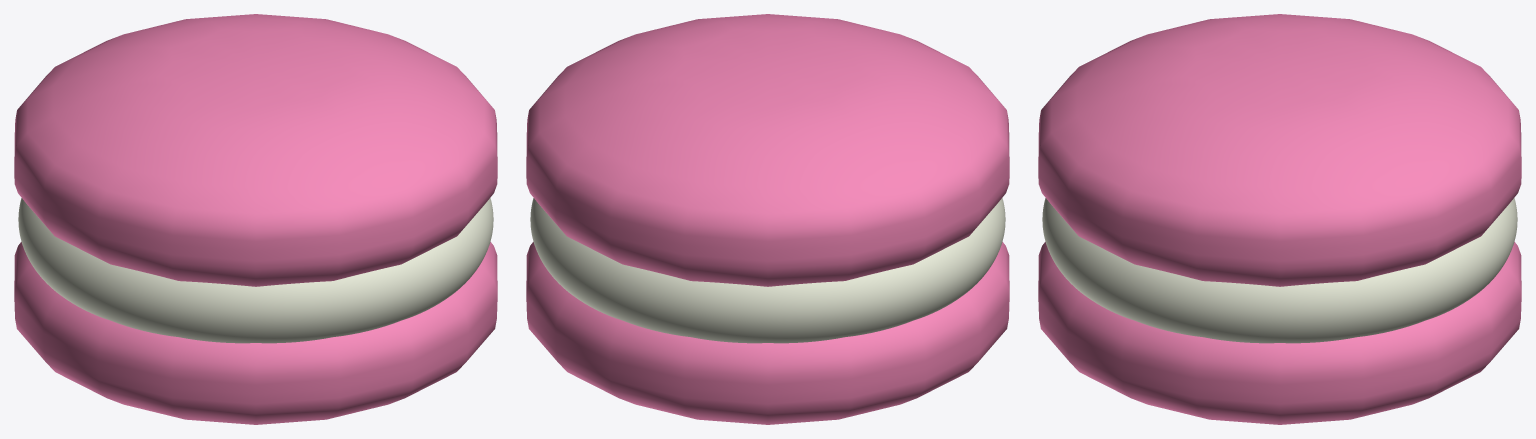
Rendered from macaron.glb.
3 renders of one model, left to right at view 1: azimuth 30°, elevation 25°; view 2: azimuth 150°, elevation 25°; view 3: azimuth 270°, elevation 25°, orthographic.
Parts seen in each view (by area): view 1: Torus.001, Torus.003, Torus.002; view 2: Torus.001, Torus.003, Torus.002; view 3: Torus.001, Torus.003, Torus.002.
Boxes of the visible parts, x1=… form: Torus.001: x1=14, y1=14, x2=497, y2=286; Torus.003: x1=14, y1=242, x2=497, y2=424; Torus.002: x1=18, y1=198, x2=493, y2=343; Torus.001: x1=526, y1=14, x2=1009, y2=286; Torus.003: x1=526, y1=242, x2=1009, y2=424; Torus.002: x1=530, y1=198, x2=1005, y2=343; Torus.001: x1=1038, y1=14, x2=1521, y2=286; Torus.003: x1=1038, y1=242, x2=1521, y2=424; Torus.002: x1=1042, y1=198, x2=1517, y2=343.
Bounding box in the file's own units: 2.3 × 1.6 × 2.26.
